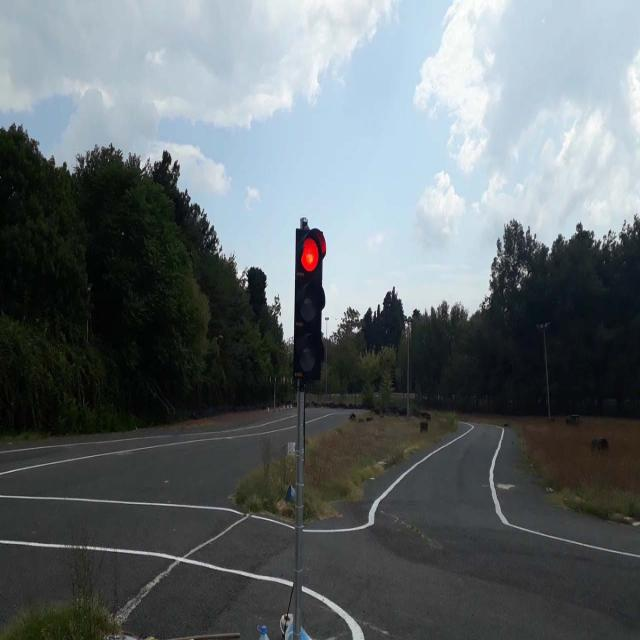kirmizi: (294, 225, 324, 378)
